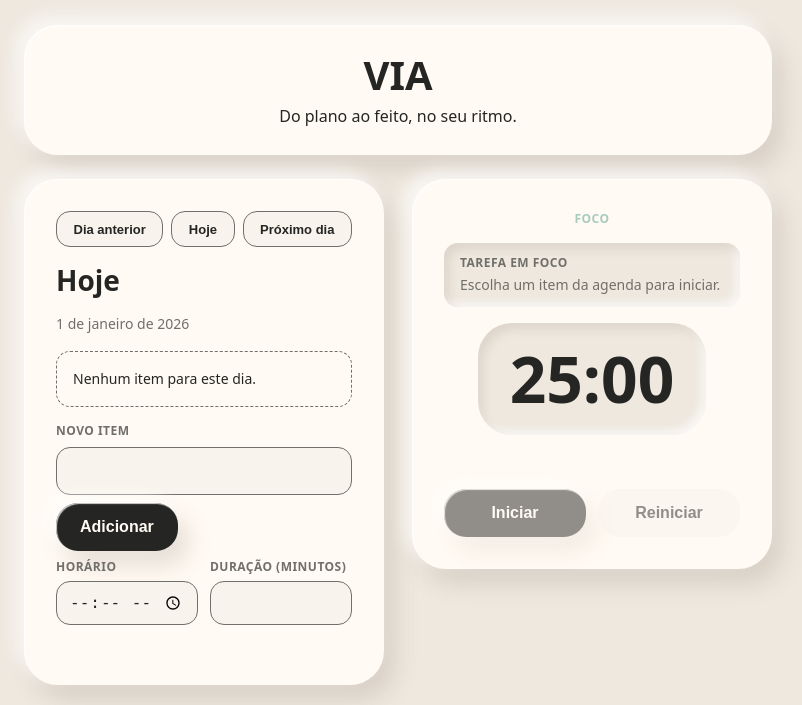
Test: App integration: agenda planning and focus timer › advances the timer deterministically while the agenda list stays intact
Type "Write the report" into the field labelled "Novo item" at (204, 471), box [56, 447, 352, 495]
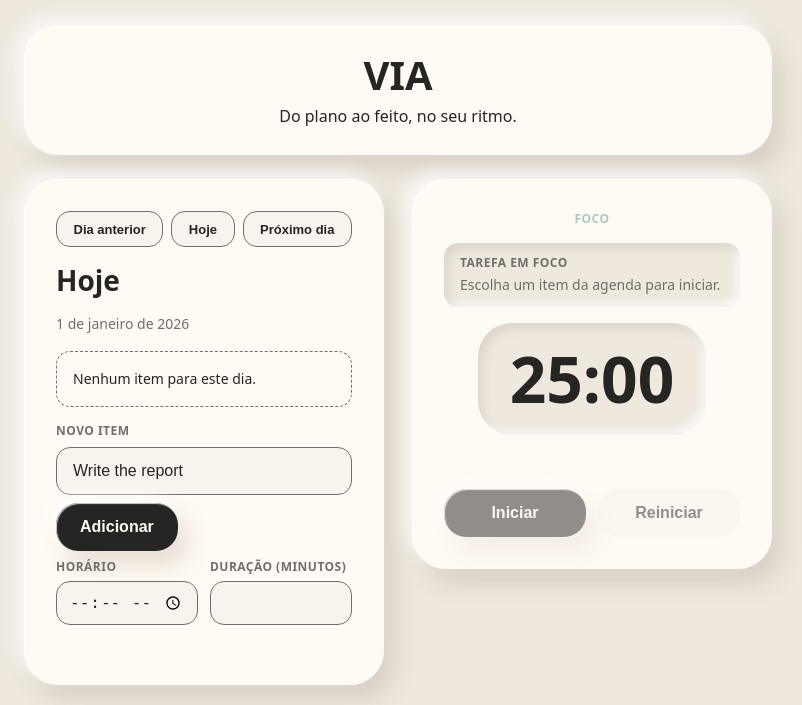
Click the button "Adicionar" at (117, 527), box [56, 503, 178, 551]
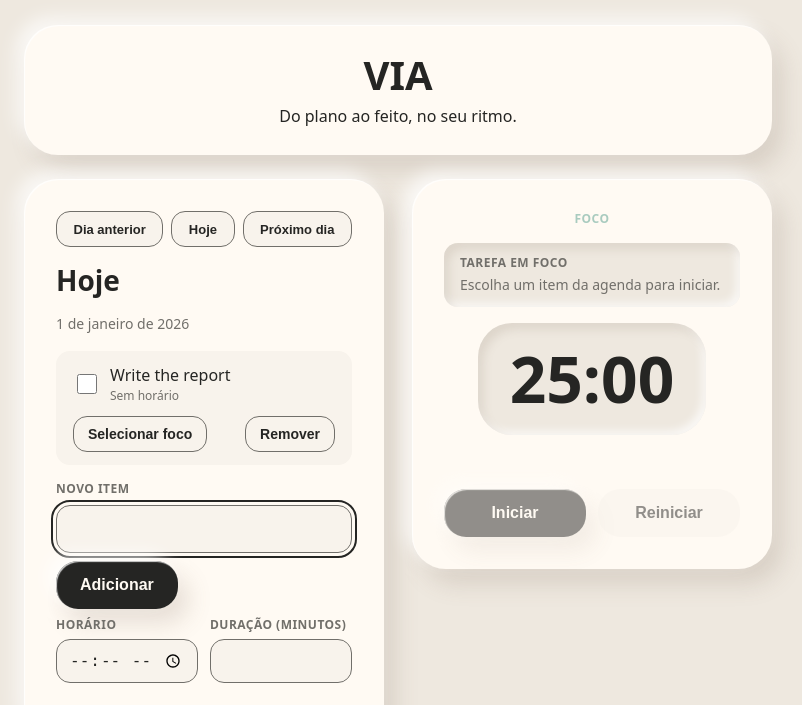
Click the button named "Selecionar item \"Write the report\" para foco" at (140, 434), box [73, 416, 207, 452]
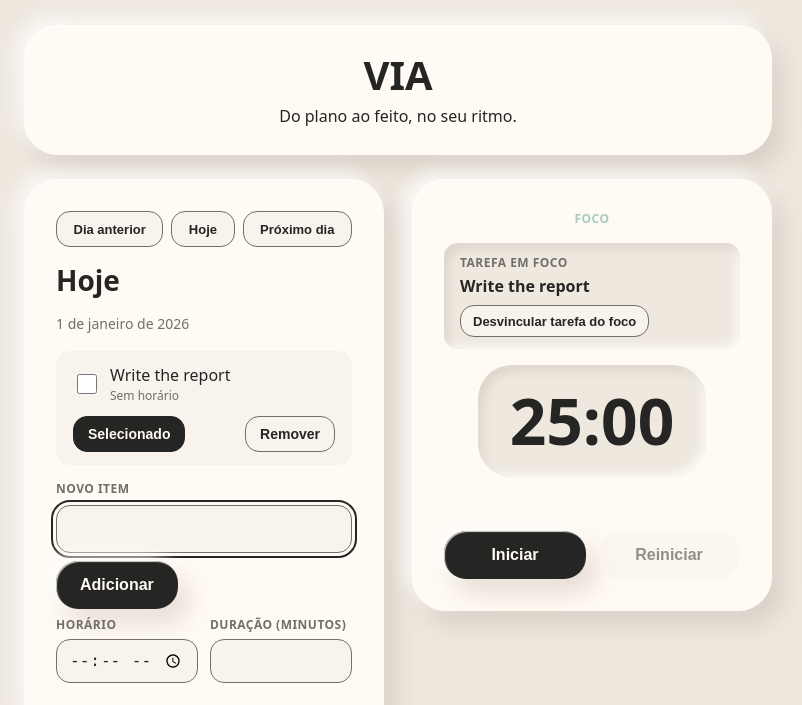
Click the button "Iniciar" at (515, 555), box [444, 531, 586, 579]
Wait 60000 ms
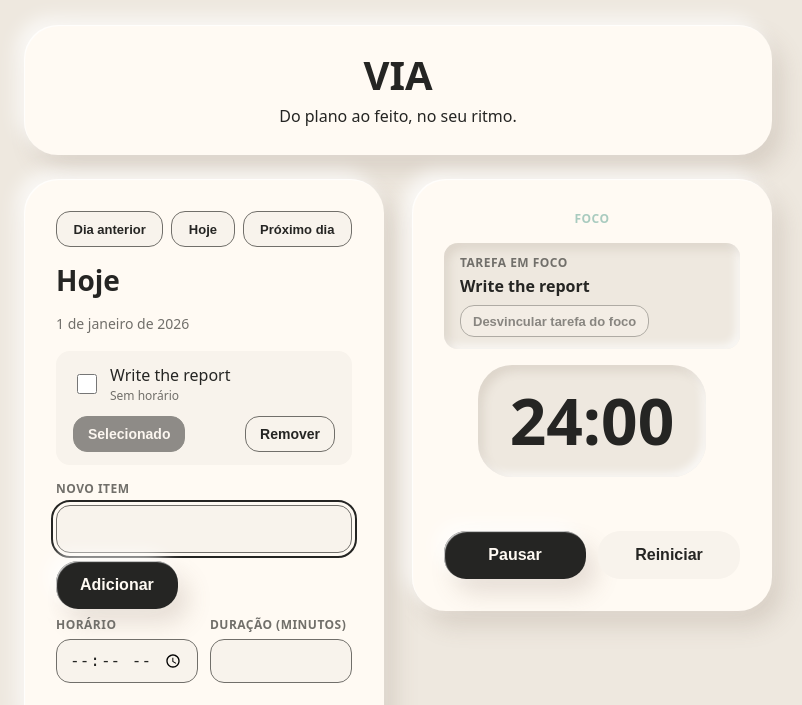
Check: the text "Write the report" below "1 de janeiro de 2026" is shown, box [110, 364, 230, 386]
Check: the text named "Tempo restante 24:00" is shown, box [478, 365, 706, 477]
